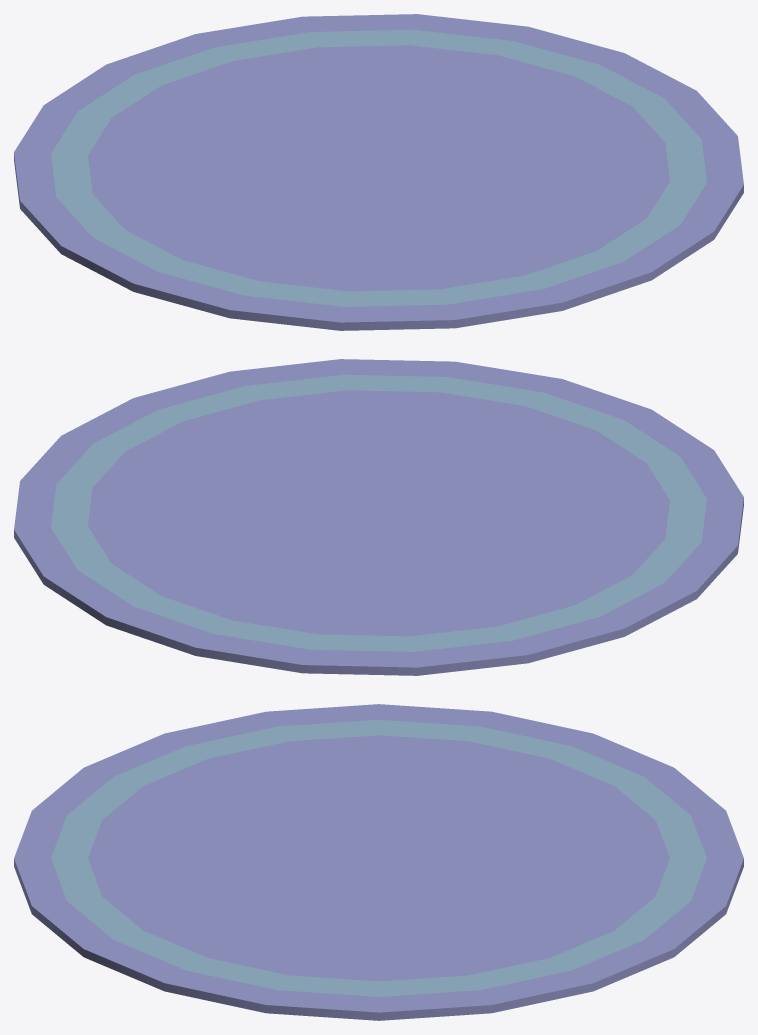
The model's file is carpet-round-large.glb.
3 views of the same model, one above another, from view 1: azimuth 30°, elevation 25°; view 2: azimuth 150°, elevation 25°; view 3: azimuth 270°, elevation 25° (orthographic).
Visible parts, largest first — view 1: carpet-round-large; view 2: carpet-round-large; view 3: carpet-round-large.
Boxes of the visible parts, x1,y1,x2,y2 form: carpet-round-large: [14, 14, 743, 330]; carpet-round-large: [14, 359, 743, 675]; carpet-round-large: [14, 704, 743, 1020].
Bounding box in the file's own units: 2 × 0.025 × 2.
